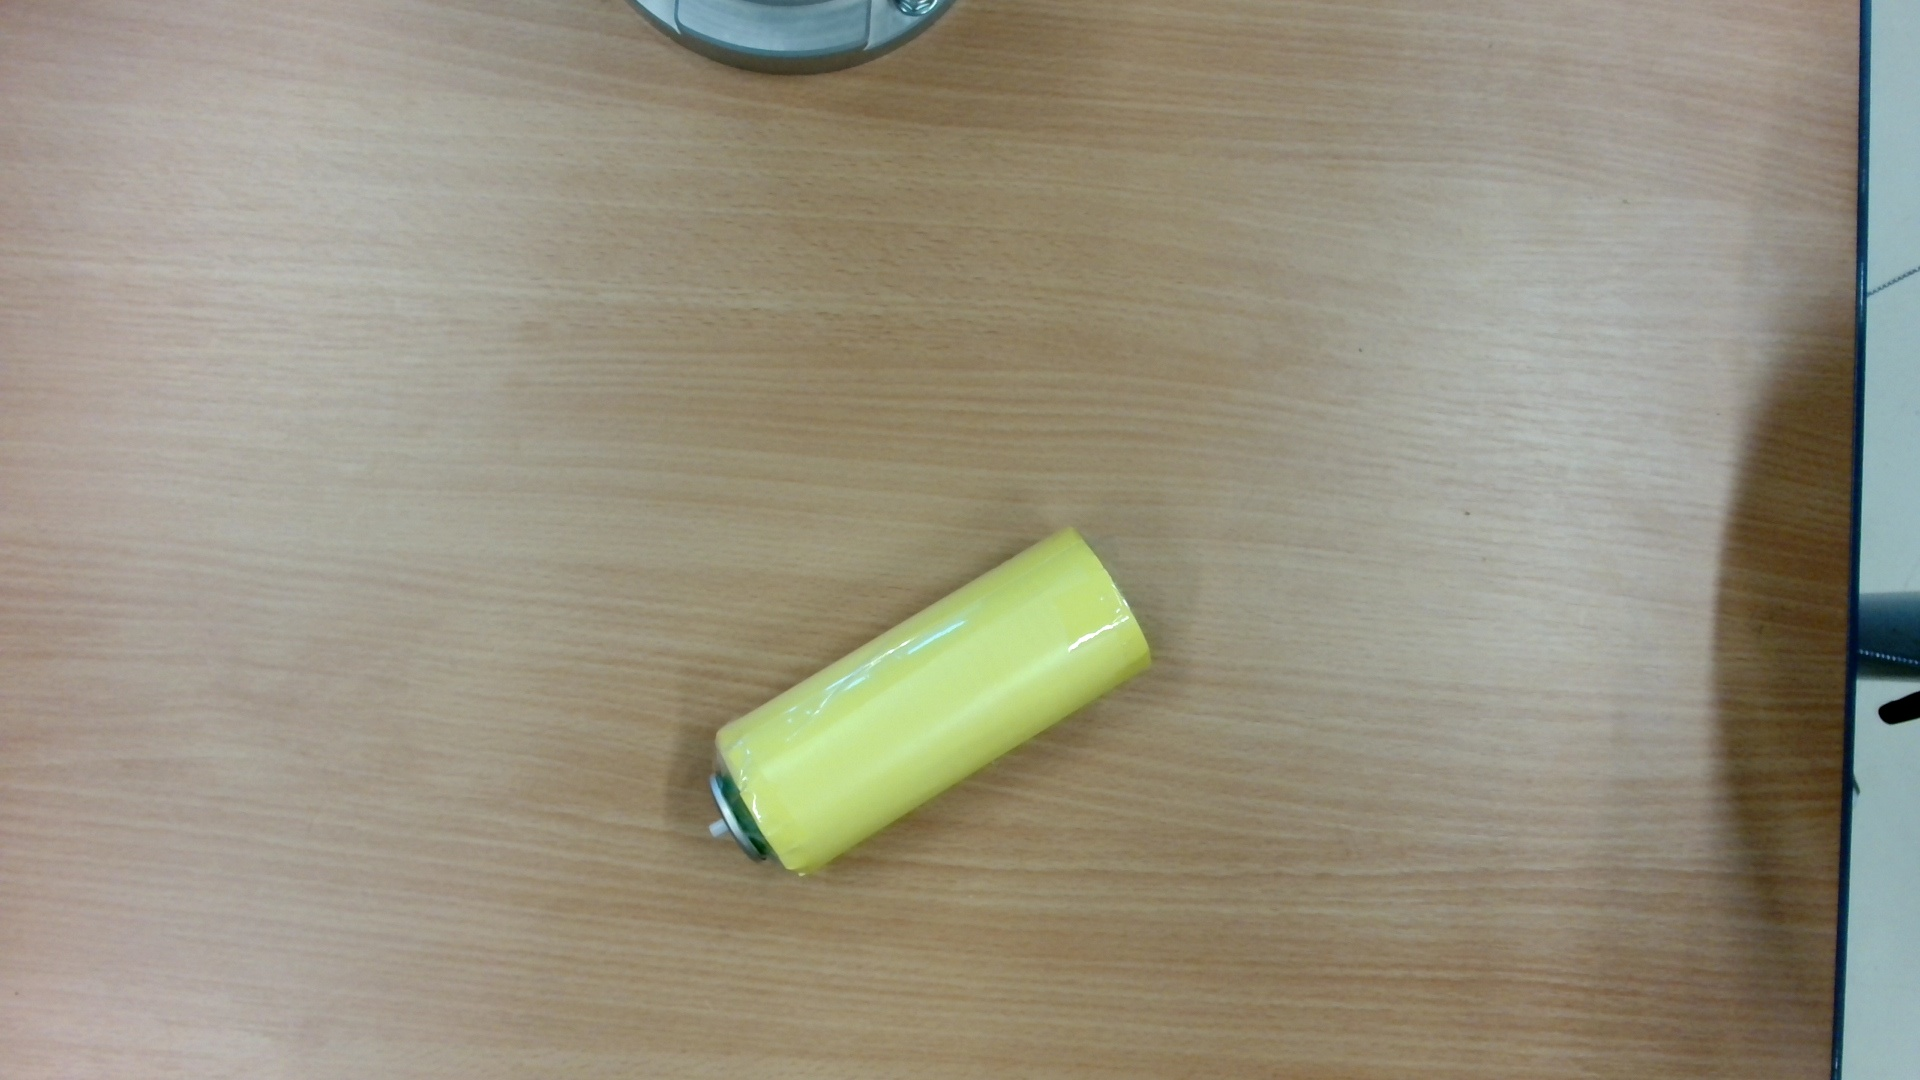Cylinder: (692, 516, 1163, 891)
